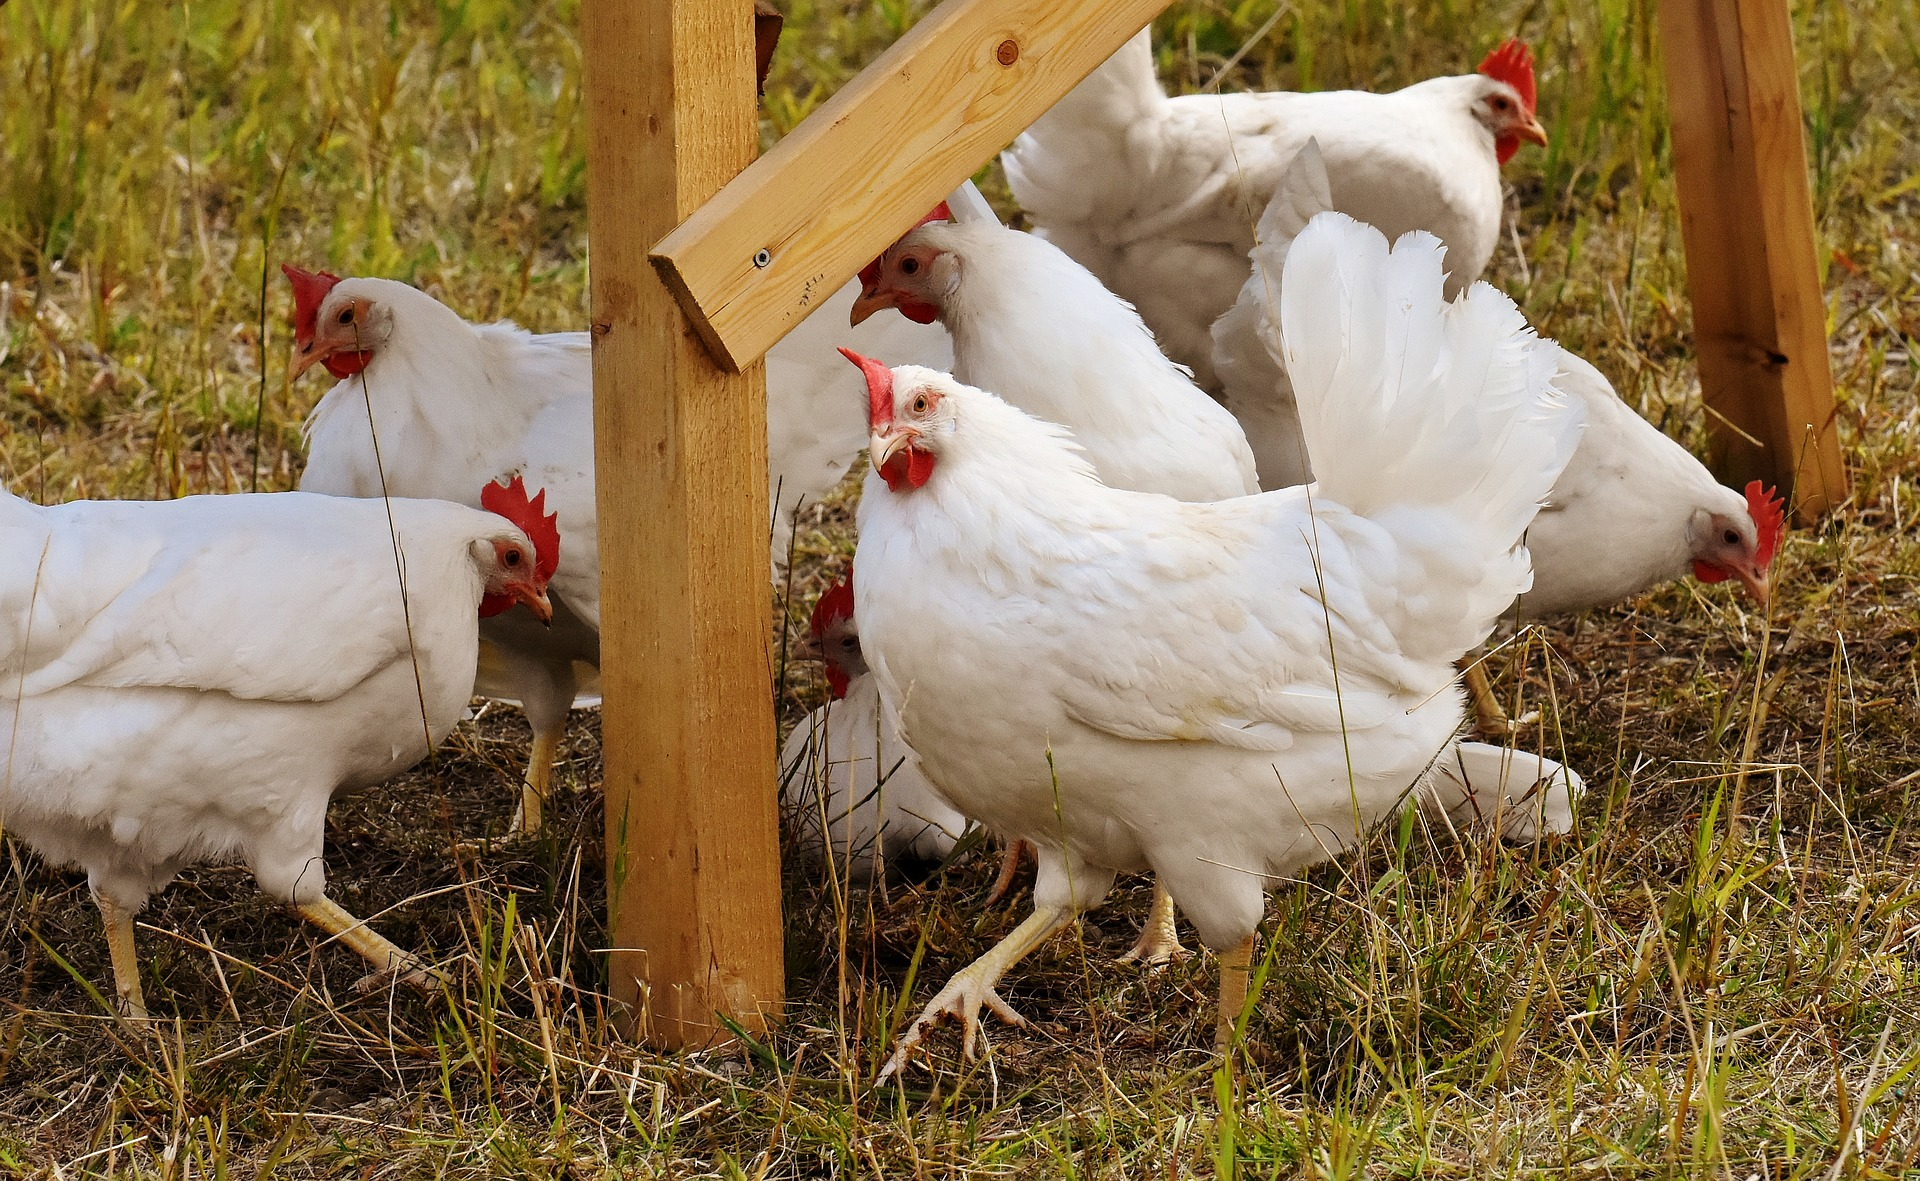chicken: (811, 287, 1439, 1062), (1, 438, 561, 1008), (1275, 204, 1797, 642), (196, 218, 667, 556), (1094, 15, 1580, 335), (817, 150, 1229, 491), (773, 560, 965, 850)
